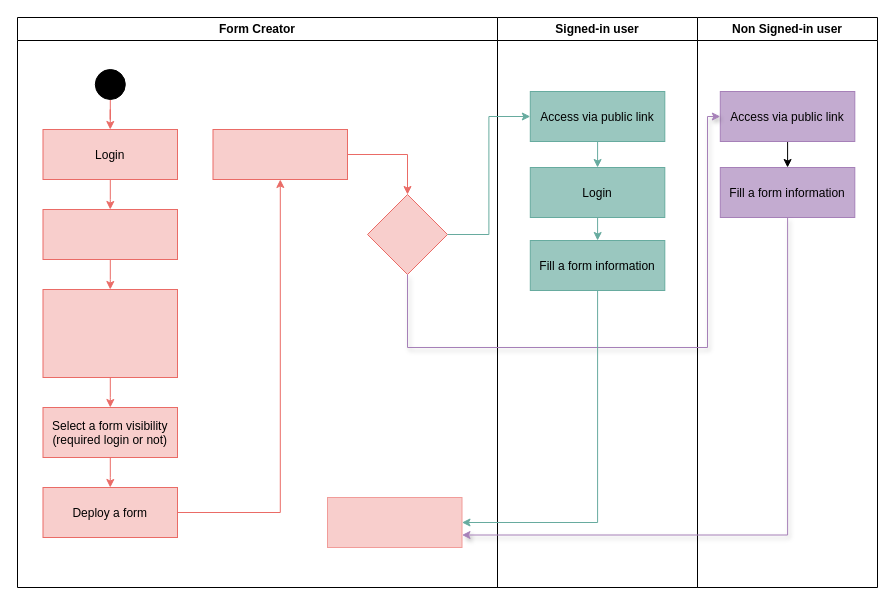
The diagram is 895 pixels wide and 605 high, and some of its shapes have lost their labels. The shapes that lost their labels are listed below. From the top down, each one's centre as x and y in pixels, then its label:
(280,154): Generate a public link to access a form
(110,234): Upload a form file
(407,234): Is login required
(110,333): Recheck all detail and make correction
(394,522): View a data
